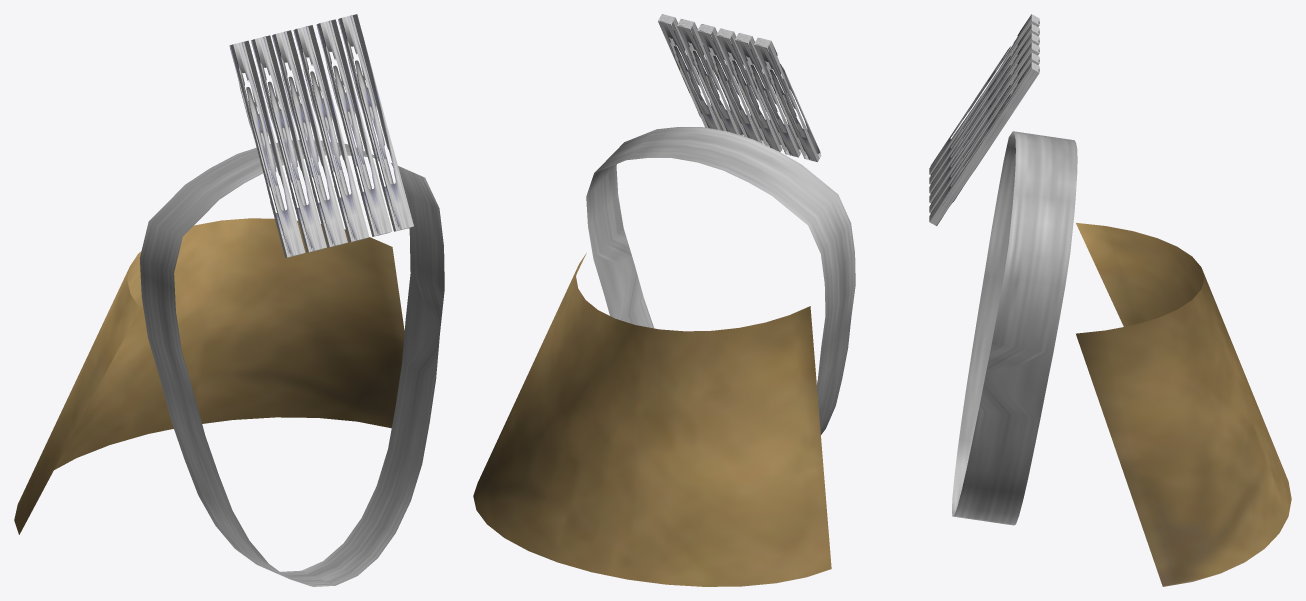
File: helmet_moch_fisher_2.dae
3 renders of one model, left to right at view 1: azimuth 30°, elevation 25°; view 2: azimuth 150°, elevation 25°; view 3: azimuth 270°, elevation 25°, orthographic. The views are drawn at different scales.
Parts seen in each view (by area): view 1: helmet_moch_fisher_2; view 2: helmet_moch_fisher_2; view 3: helmet_moch_fisher_2.
Part boxes in pixels (x1,y1,x2,y2): helmet_moch_fisher_2: (14, 14, 444, 586); helmet_moch_fisher_2: (473, 14, 855, 586); helmet_moch_fisher_2: (929, 14, 1291, 586).
Bounding box in the file's own units: 0.7223 × 0.7071 × 0.9189.
